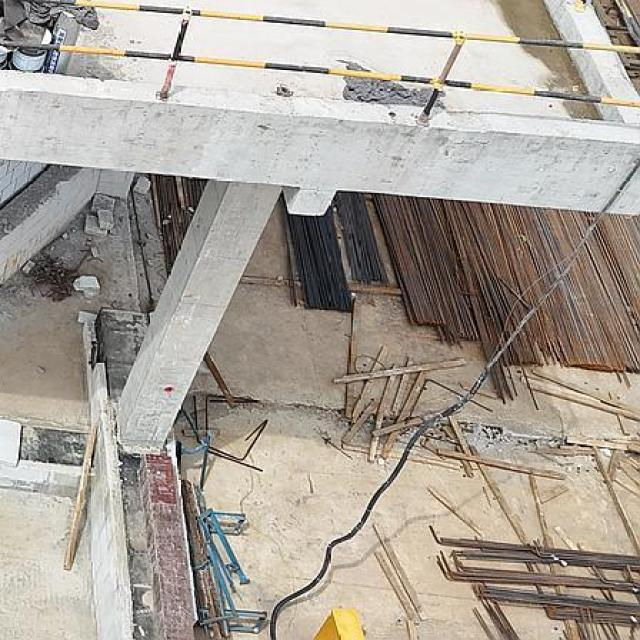edge_guardrail: (0, 0, 640, 126), (618, 0, 640, 40)
